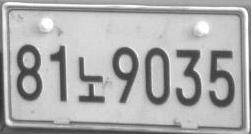0: (144, 47, 171, 105)
1: (47, 44, 73, 101)
3: (175, 49, 202, 106)
5: (207, 50, 235, 107)
8: (16, 43, 43, 102)
9: (112, 46, 139, 103)
노: (76, 56, 105, 103)
